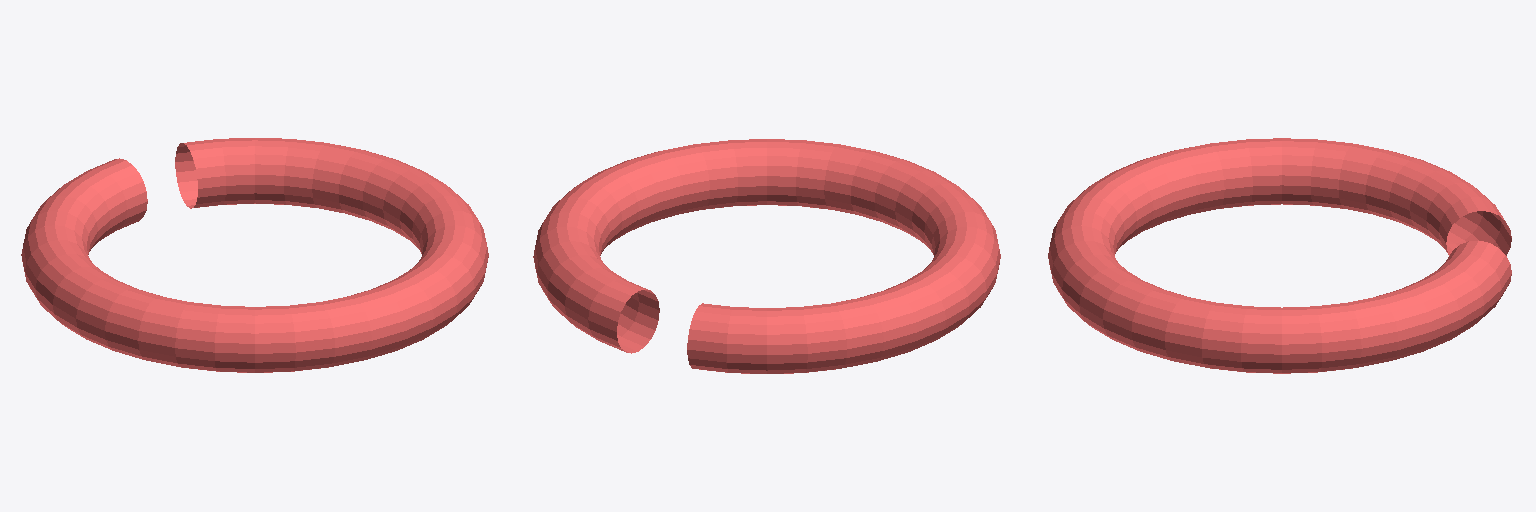
Rendered from middle_ring.obj.
3 views of the same model, side by side, from view 1: azimuth 30°, elevation 25°; view 2: azimuth 150°, elevation 25°; view 3: azimuth 270°, elevation 25° (orthographic).
Visible parts, largest first — view 1: middle; view 2: middle; view 3: middle.
Part boxes in pixels (x1,y1,x2,y2): middle: (21,138,488,372); middle: (533,139,1000,373); middle: (1048,138,1511,373).
Size of the model in its own units: 7 by 1 by 6.95.